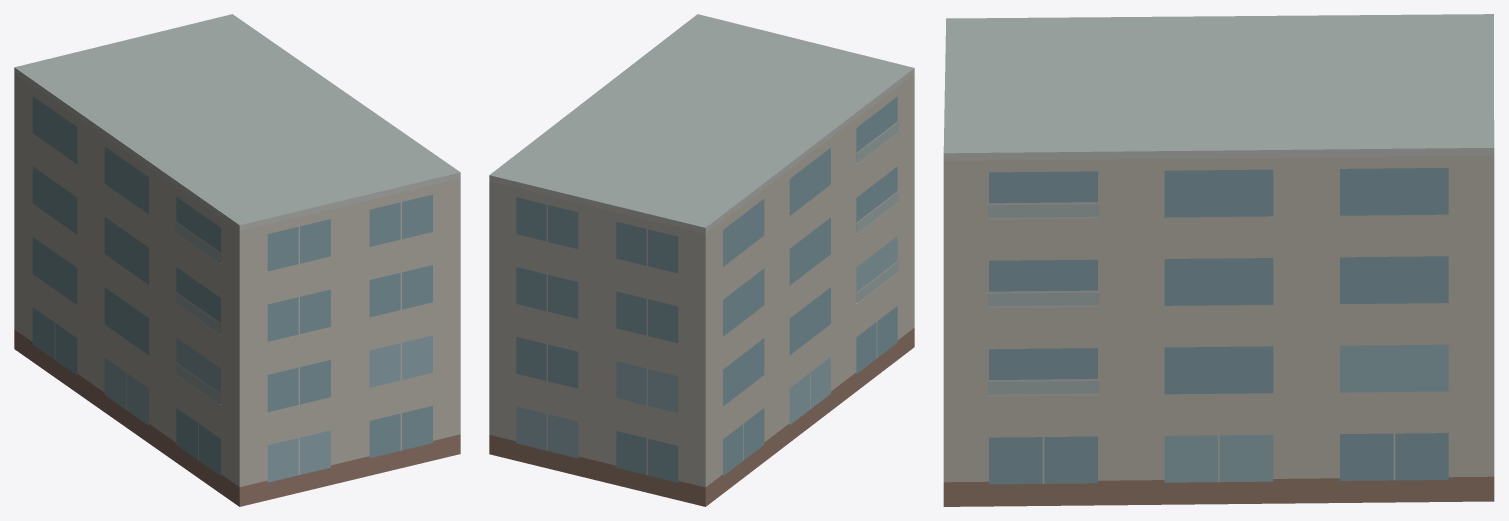
The model's file is survey-upis-33003073.glb.
3 views of the same model, side by side, from view 1: azimuth 30°, elevation 25°; view 2: azimuth 150°, elevation 25°; view 3: azimuth 270°, elevation 25° (orthographic). The views are drawn at different scales.
Parts seen in each view (by area): view 1: survey-upis-33003073.tmp; view 2: survey-upis-33003073.tmp; view 3: survey-upis-33003073.tmp.
Boxes of the visible parts, x1,y1,x2,y2 form: survey-upis-33003073.tmp: [14, 14, 460, 506]; survey-upis-33003073.tmp: [489, 14, 914, 506]; survey-upis-33003073.tmp: [943, 14, 1494, 506].
Size of the model in its own units: 9.56 by 11.3 by 15.96.
